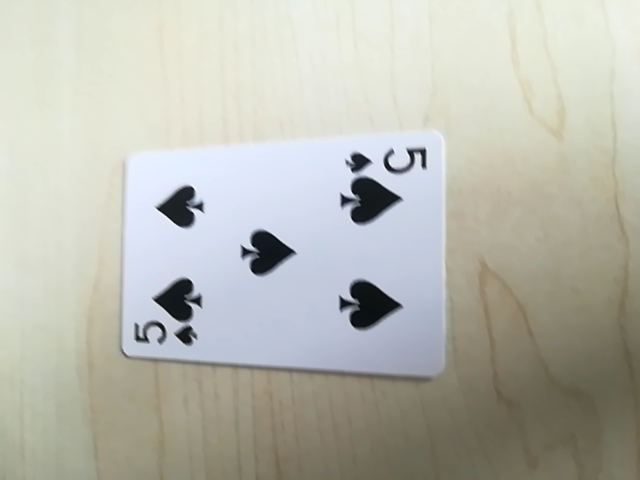ht 5: (343, 140, 430, 177), (129, 317, 203, 354)
